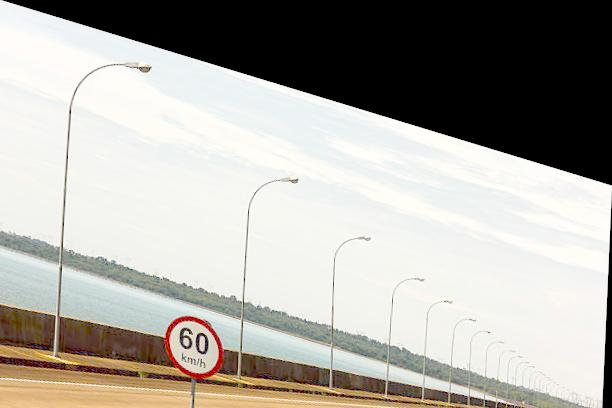Speed Limit -60-: (164, 293, 228, 374)
